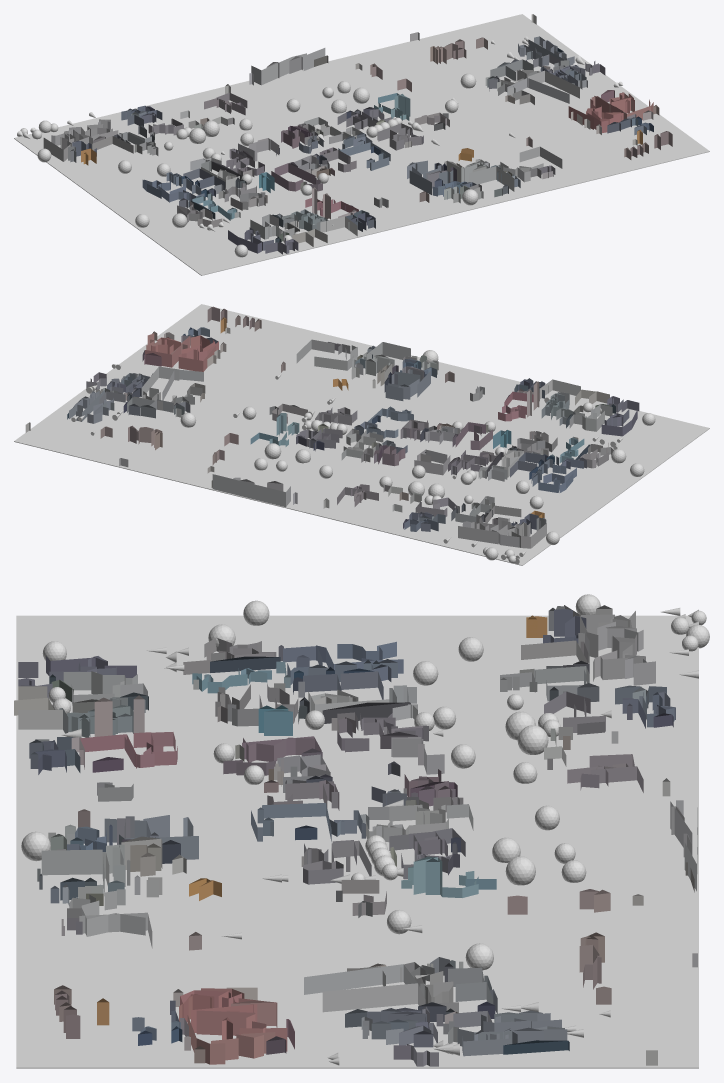
3 views of the same model, one above another, from view 1: azimuth 30°, elevation 25°; view 2: azimuth 150°, elevation 25°; view 3: azimuth 270°, elevation 25° (orthographic). The views are drawn at different scales.
Visible parts, largest first — view 1: Ground_Base, BLD-001, BLD-414, BLD-180, BLD-179, BLD-331, BLD-371, BLD-450; view 2: Ground_Base, BLD-001, BLD-331, BLD-018, BLD-370, BLD-414, BLD-450, BLD-179, BLD-022; view 3: Ground_Base, BLD-179, BLD-180, BLD-294, BLD-370, BLD-414, BLD-331, BLD-286, BLD-268, BLD-188, BLD-058, BLD-246 (+14 smaller).
Part boxes in pixels (x1,y1,x2,y2): Ground_Base: (14,14,709,275); BLD-001: (251,48,325,85); BLD-414: (469,166,514,191); BLD-180: (507,78,569,103); BLD-179: (528,70,579,98); BLD-331: (409,160,440,194); BLD-371: (519,146,562,168); BLD-450: (320,216,357,236); Ground_Base: (14,304,709,565); BLD-001: (212,474,290,507); BLD-331: (385,371,430,400); BLD-018: (458,524,498,544); BLD-370: (314,345,357,370); BLD-414: (366,342,410,359); BLD-450: (539,379,580,398); BLD-179: (141,366,179,397); BLD-022: (511,523,546,548); Ground_Base: (16,615,698,1068); BLD-179: (322,983,425,1012); BLD-180: (304,964,420,994); BLD-294: (187,1015,275,1064); BLD-370: (69,890,145,936); BLD-414: (41,849,104,895); BLD-331: (104,815,198,859); BLD-286: (196,1010,287,1051); BLD-268: (243,737,314,762); BLD-188: (322,702,411,723); BLD-058: (521,640,587,662); BLD-246: (262,803,331,841).
Size of the model in its own units: 343 by 20.4 by 220.
